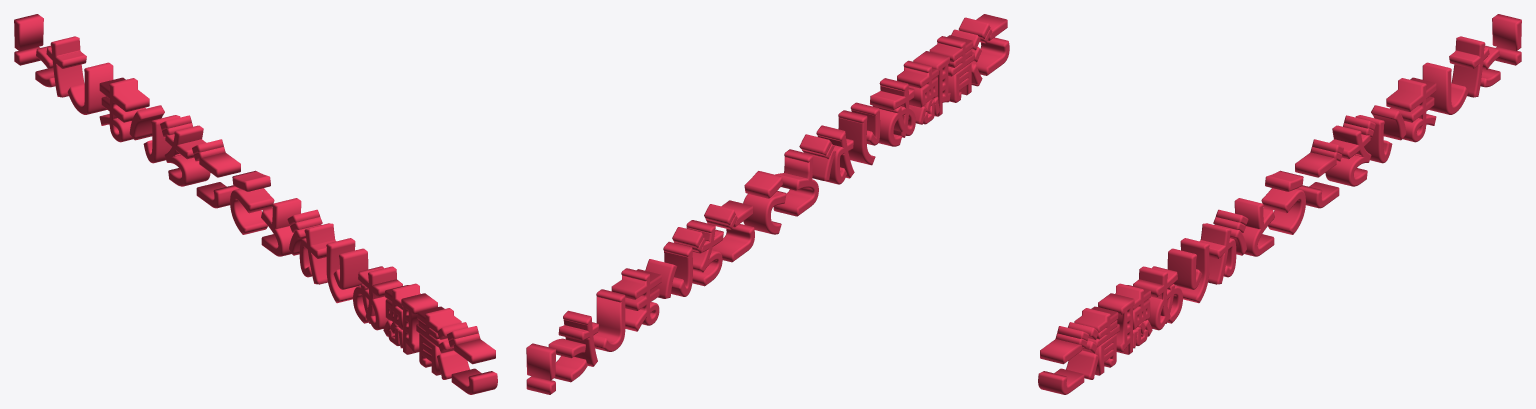
Rendered from asset.glb.
3 views of the same model, side by side, from view 1: azimuth 30°, elevation 25°; view 2: azimuth 150°, elevation 25°; view 3: azimuth 330°, elevation 25° (orthographic).
Visible parts, largest first — view 1: Text; view 2: Text; view 3: Text.
Part boxes in pixels (left/top/right/bottom): Text: left=14, top=14, right=497, bottom=394; Text: left=526, top=14, right=1009, bottom=394; Text: left=1038, top=14, right=1521, bottom=394.
Size of the model in its own units: 0.46 by 1.01 by 14.49.
